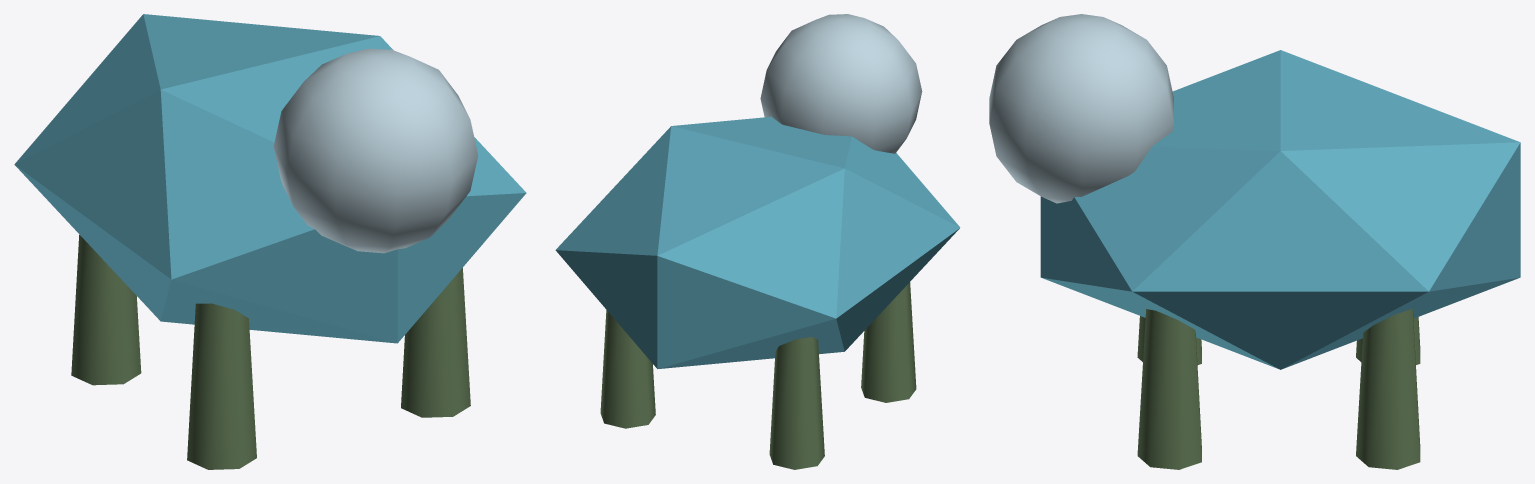
The model's file is sky_fox.glb.
The picture shows the model from 3 angles, left to right: view 1: azimuth 30°, elevation 25°; view 2: azimuth 150°, elevation 25°; view 3: azimuth 270°, elevation 25°; orthographic projection. The views are drawn at different scales.
Visible parts, largest first — view 1: body_core, head_core, leg_-1_1, leg_-1_-1, leg_1_1; view 2: body_core, head_core, leg_-1_-1, leg_-1_1, leg_1_-1; view 3: body_core, head_core, leg_1_1, leg_1_-1.
Boxes of the visible parts, box(x1,y1,x2,y2) form: body_core: box(14, 14, 526, 343); head_core: box(273, 48, 478, 253); leg_-1_1: box(187, 303, 256, 469); leg_-1_-1: box(71, 234, 141, 385); leg_1_1: box(401, 268, 470, 417); body_core: box(555, 116, 960, 369); head_core: box(760, 14, 922, 153); leg_-1_-1: box(769, 337, 824, 469); leg_-1_1: box(861, 282, 916, 402); leg_1_-1: box(600, 310, 655, 428); body_core: box(1040, 50, 1520, 369); head_core: box(989, 14, 1173, 203); leg_1_1: box(1137, 309, 1201, 469); leg_1_-1: box(1356, 309, 1420, 469).
Size of what is drawn, in the model's own units: 1.59 by 1.75 by 2.19.
